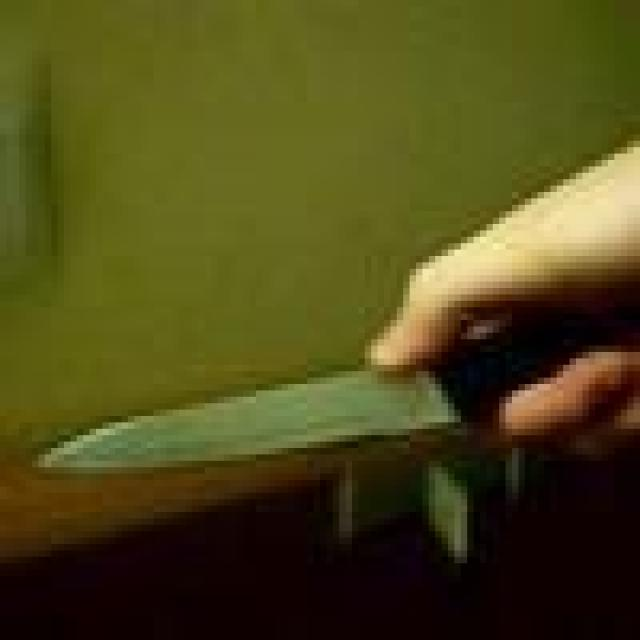senjata_tajam: (22, 346, 495, 481)
